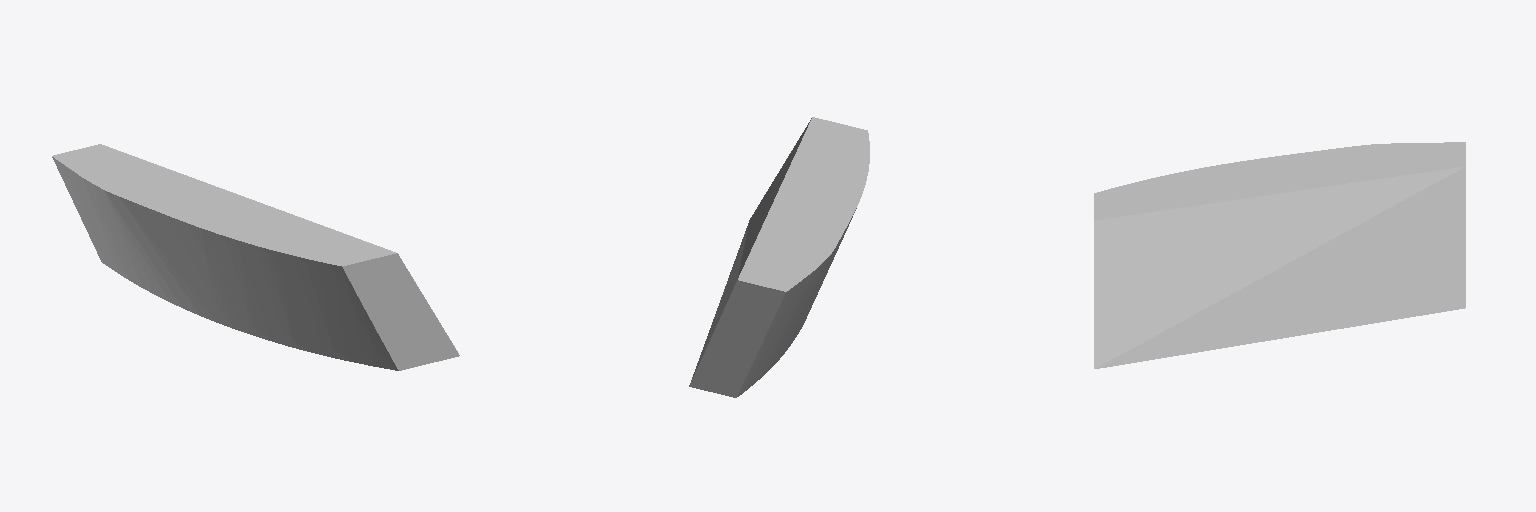
The model's file is skillet_collision_24.obj.
3 renders of one model, left to right at view 1: azimuth 30°, elevation 25°; view 2: azimuth 150°, elevation 25°; view 3: azimuth 270°, elevation 25°, orthographic.
Size of the model in its own units: 0.039 by 0.0198 by 0.0565.